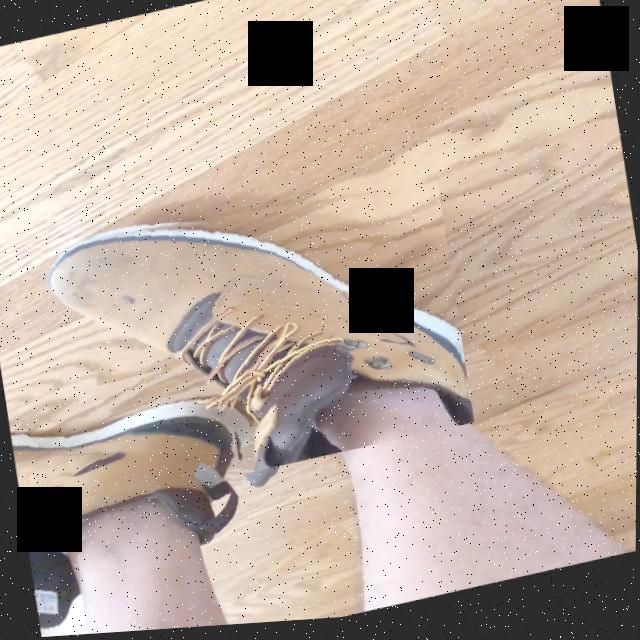shoe: (48, 231, 475, 433), (18, 404, 236, 616)
